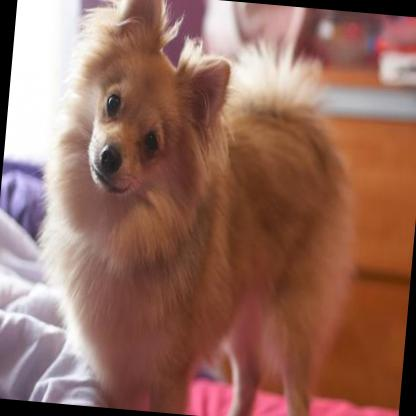Pomeranian: (24, 0, 373, 416)
